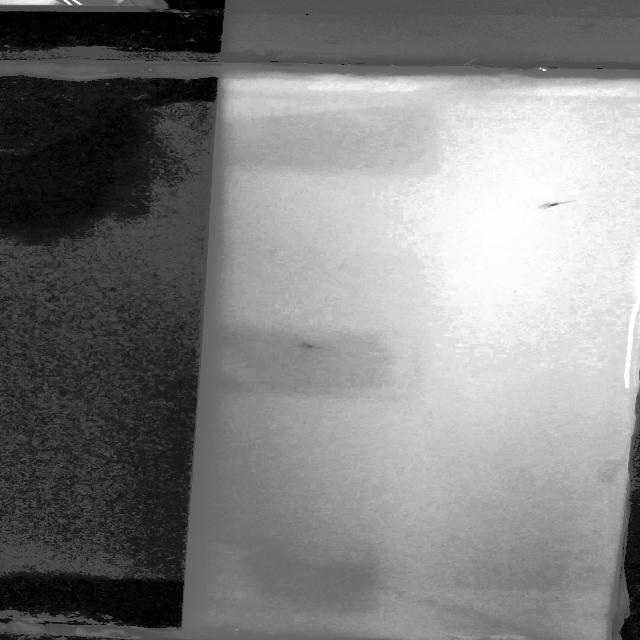shrimp: (533, 197, 573, 209), (297, 342, 320, 352)
